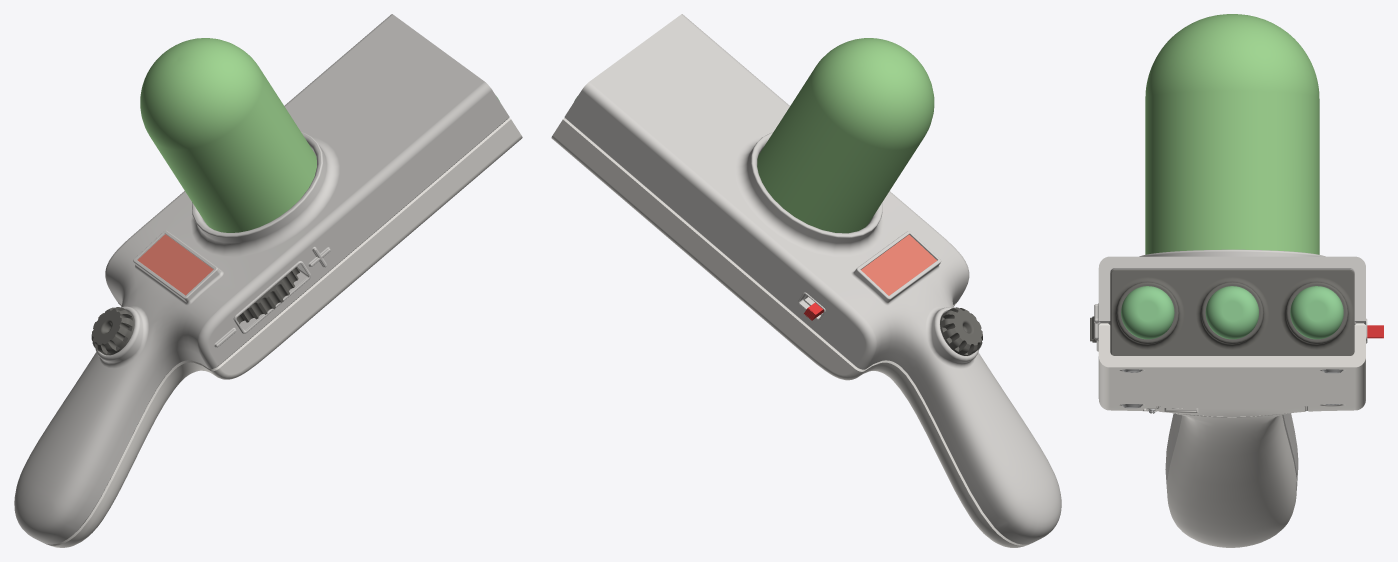
File: PortalGun.fbx
3 renders of one model, left to right at view 1: azimuth 30°, elevation 25°; view 2: azimuth 150°, elevation 25°; view 3: azimuth 270°, elevation 25°, orthographic. The views are drawn at different scales.
Parts seen in each view (by area): view 1: Body16, Body28, Body1, Body15, Body12, Body31, Body32; view 2: Body16, Body28, Body1, Body15, Body12; view 3: Body28, Body1, Body4, Body16, Body10, Body8, Body9.
Boxes of the visible parts, x1,y1,x2,y2 form: Body16: [14, 14, 509, 544]; Body28: [140, 38, 316, 232]; Body1: [45, 118, 522, 547]; Body15: [137, 234, 213, 295]; Body12: [91, 307, 134, 355]; Body31: [236, 266, 300, 323]; Body32: [233, 261, 310, 333]; Body16: [564, 14, 1061, 544]; Body28: [757, 38, 934, 233]; Body1: [551, 118, 1029, 547]; Body15: [861, 234, 936, 295]; Body12: [940, 307, 982, 355]; Body28: [1145, 14, 1319, 254]; Body1: [1098, 323, 1365, 547]; Body4: [1110, 269, 1354, 355]; Body16: [1094, 249, 1365, 492]; Body10: [1290, 286, 1343, 339]; Body8: [1121, 286, 1174, 339]; Body9: [1205, 286, 1258, 339].
Bounding box in the file's own units: 23.68 × 23.12 × 9.89.
